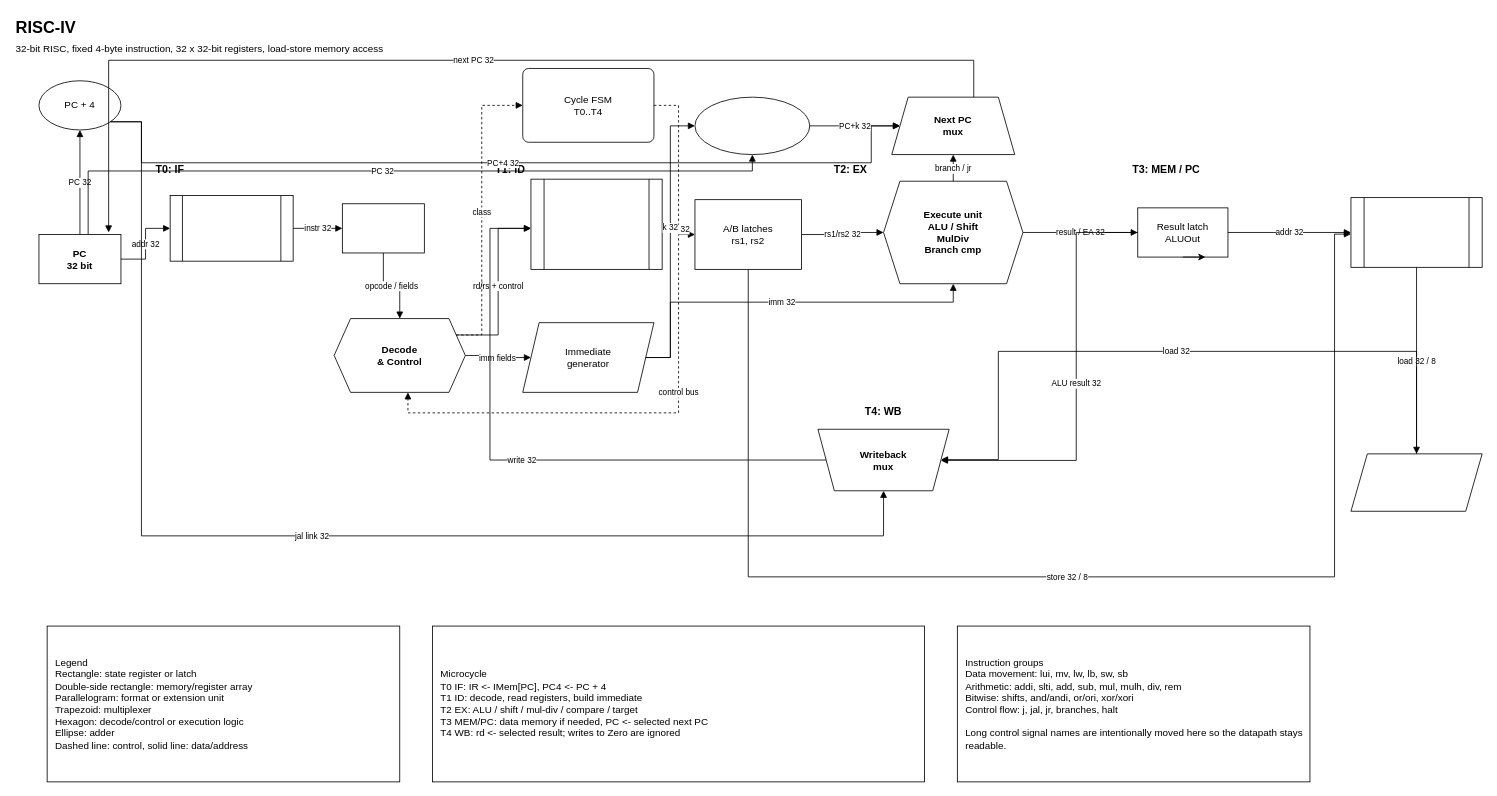
The diagram is 1497 pixels wide and 796 high, and some of its shapes have lost their labels. The shapes that lost their labels are listed below. From the top down, each one's centre as x and y in pixels, then its label:
pixel 752 125: PC + k
pixel 231 228: Instruction memory
pixel 383 228: IR 32 bit
pixel 596 223: Register file 32 x 32 Zero = 0
pixel 1416 232: Data memory + MMIO
pixel 1416 482: Load extender lw / lb
